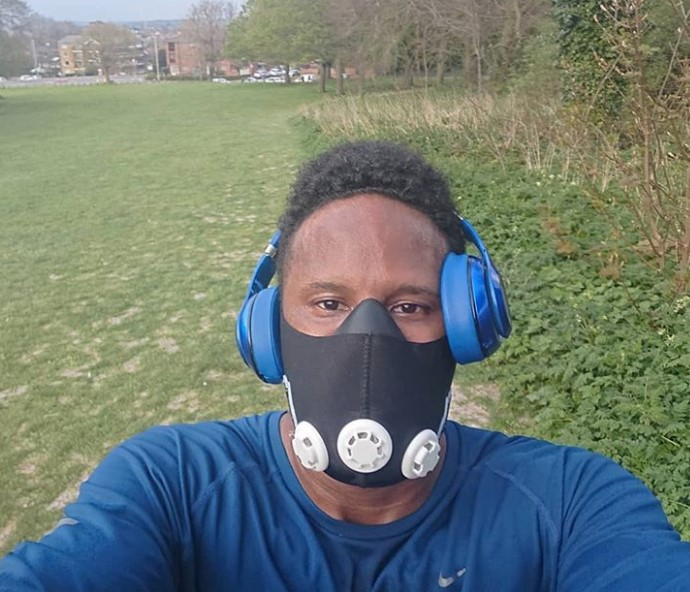face_with_mask: (240, 165, 511, 491)
